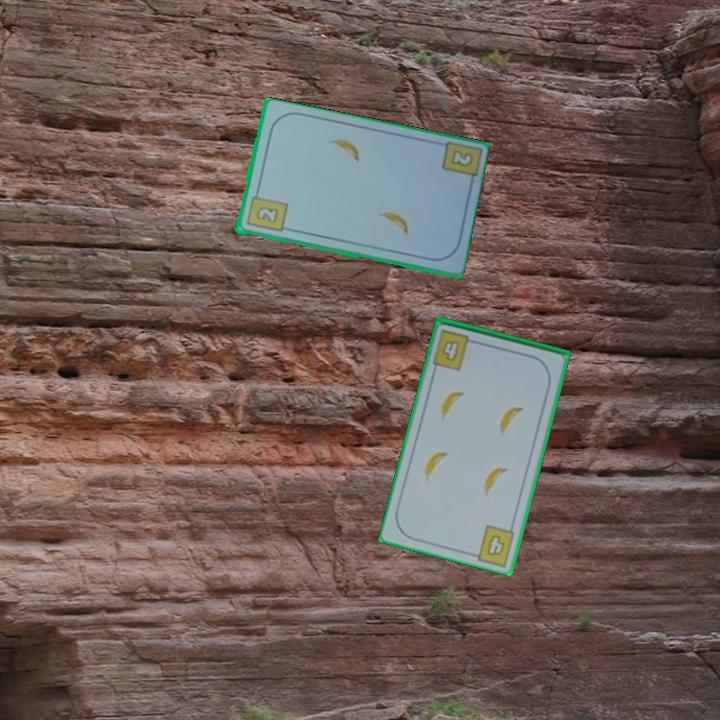2b: (243, 187, 290, 235), (447, 146, 474, 170)
4b: (429, 326, 480, 373), (484, 531, 508, 559)
